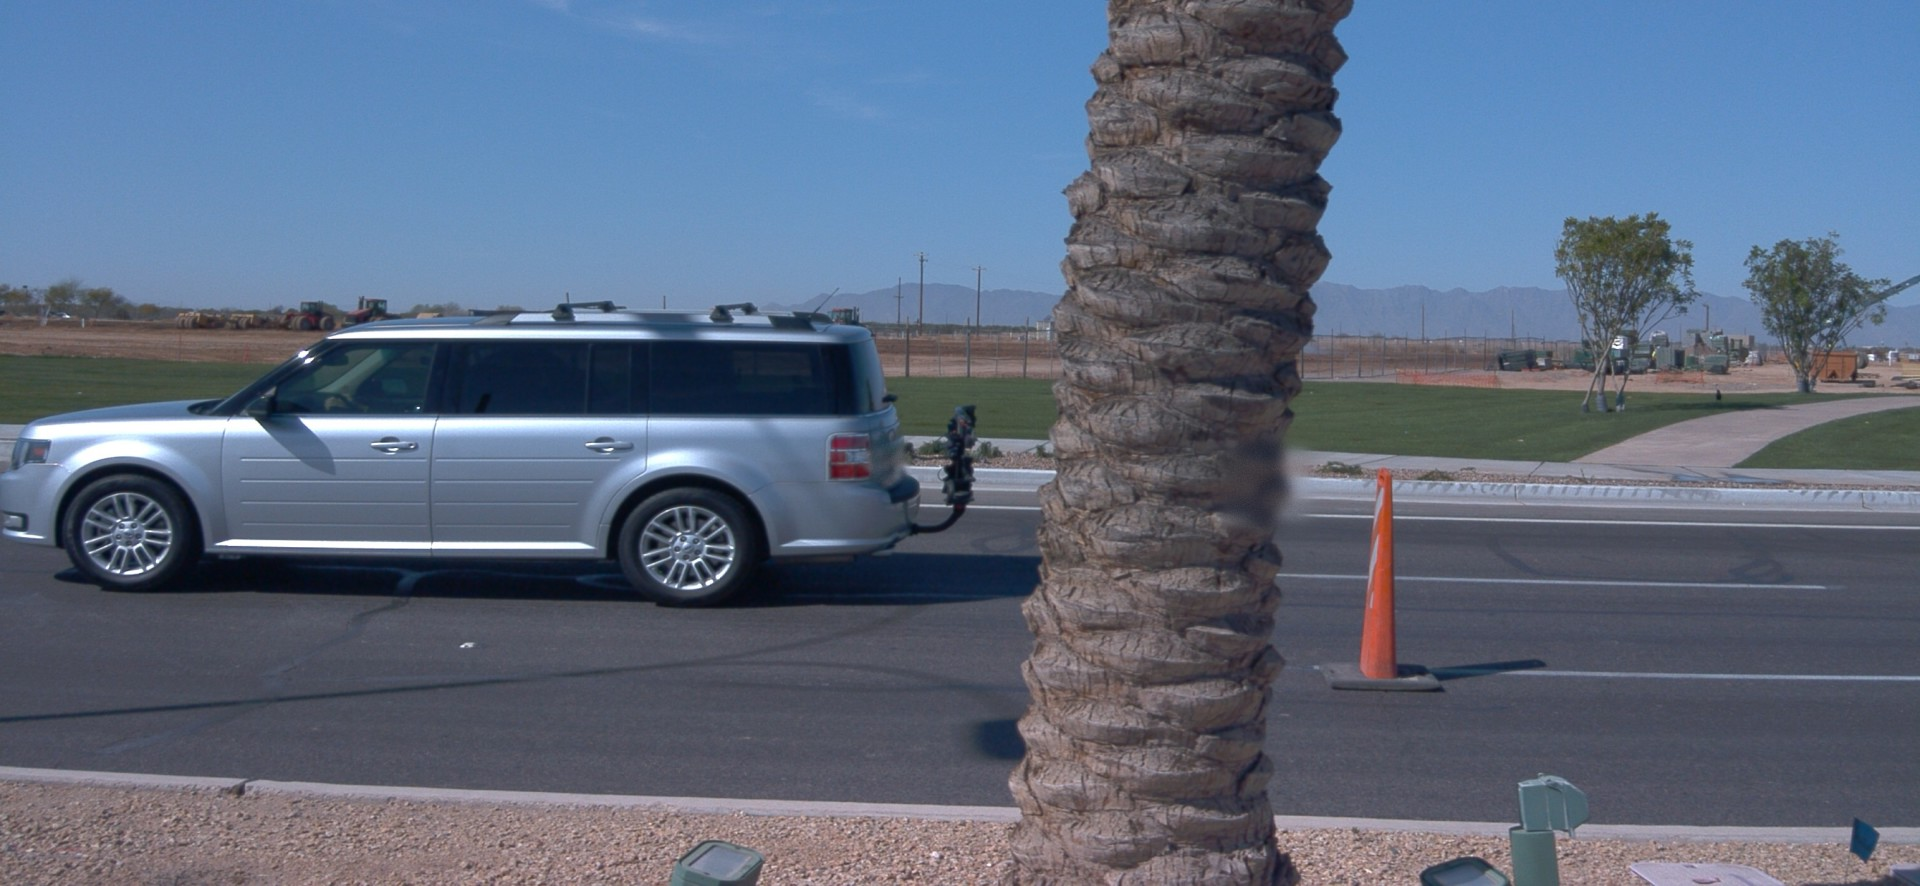TYPE_VEHICLE: (7, 308, 981, 607), (1790, 271, 1920, 377), (812, 303, 876, 345), (276, 298, 339, 331), (341, 296, 401, 328), (176, 311, 264, 327)
